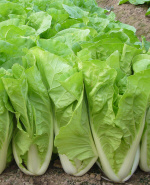cabbage: (7, 0, 114, 172), (79, 30, 149, 184), (0, 62, 56, 180)
